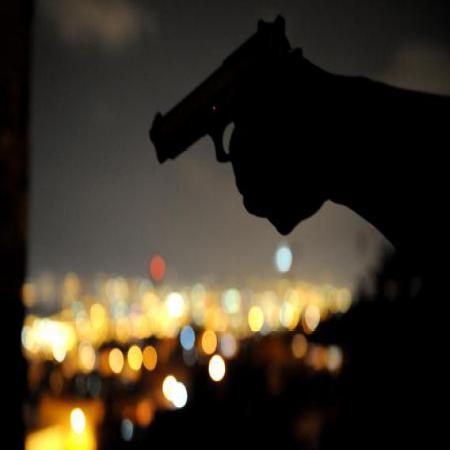Pistol: (150, 10, 306, 234)
